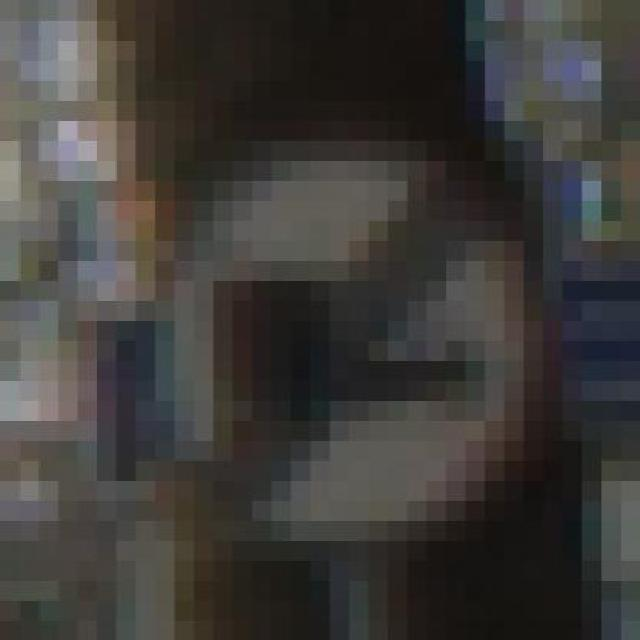Overtaking by trucks is prohibited: (97, 100, 581, 600)
